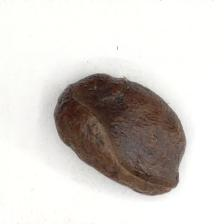NG: (101, 74, 185, 187)
